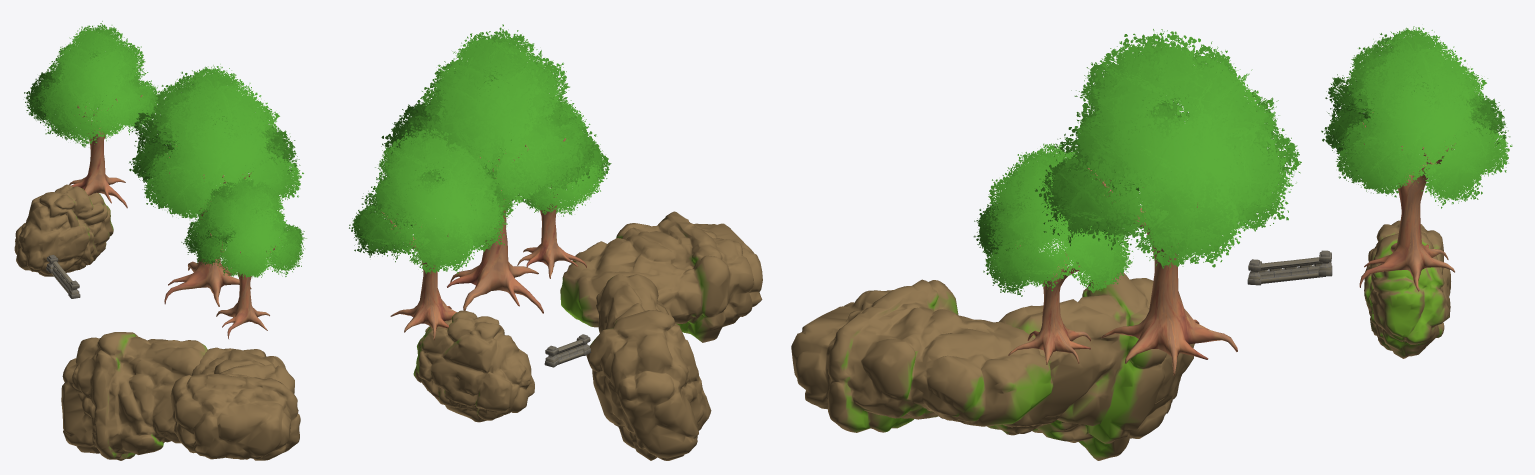
The model's file is cell_x2_z-3_render.gltf.
3 renders of one model, left to right at view 1: azimuth 30°, elevation 25°; view 2: azimuth 150°, elevation 25°; view 3: azimuth 270°, elevation 25°, orthographic. The views are drawn at different scales.
Visible parts, largest first — view 1: SM_ENV_tree_castle_01_LOD0.005, SM_ENV_cliff_castle_02_LOD0.044, SM_ENV_cliff_castle_02_LOD0.023, SM_ENV_tree_castle_01_LOD0.042, SM_ENV_tree_castle_01_LOD0.036, SM_ENV_cliff_castle_01_LOD0.016, SM_MOD_railing_02_straight_castle_LOD0.025; view 2: SM_ENV_tree_castle_01_LOD0.005, SM_ENV_tree_castle_01_LOD0.042, SM_ENV_cliff_castle_02_LOD0.044, SM_ENV_cliff_castle_02_LOD0.023, SM_ENV_cliff_castle_01_LOD0.016, SM_ENV_tree_castle_01_LOD0.036, SM_MOD_railing_02_straight_castle_LOD0.025; view 3: SM_ENV_tree_castle_01_LOD0.005, SM_ENV_cliff_castle_02_LOD0.023, SM_ENV_tree_castle_01_LOD0.042, SM_ENV_cliff_castle_02_LOD0.044, SM_ENV_tree_castle_01_LOD0.036, SM_ENV_cliff_castle_01_LOD0.016, SM_MOD_railing_02_straight_castle_LOD0.025.
Part boxes in pixels (bbox=[...]): SM_ENV_tree_castle_01_LOD0.005: bbox=[129, 64, 303, 306]; SM_ENV_cliff_castle_02_LOD0.044: bbox=[61, 332, 207, 460]; SM_ENV_cliff_castle_02_LOD0.023: bbox=[170, 347, 300, 460]; SM_ENV_tree_castle_01_LOD0.042: bbox=[24, 21, 159, 208]; SM_ENV_tree_castle_01_LOD0.036: bbox=[181, 177, 306, 338]; SM_ENV_cliff_castle_01_LOD0.016: bbox=[14, 184, 113, 276]; SM_MOD_railing_02_straight_castle_LOD0.025: bbox=[51, 261, 72, 293]; SM_ENV_tree_castle_01_LOD0.005: bbox=[381, 24, 602, 313]; SM_ENV_tree_castle_01_LOD0.042: bbox=[349, 127, 513, 340]; SM_ENV_cliff_castle_02_LOD0.044: bbox=[586, 274, 711, 460]; SM_ENV_cliff_castle_02_LOD0.023: bbox=[560, 211, 762, 342]; SM_ENV_cliff_castle_01_LOD0.016: bbox=[413, 310, 534, 422]; SM_ENV_tree_castle_01_LOD0.036: bbox=[486, 95, 611, 278]; SM_MOD_railing_02_straight_castle_LOD0.025: bbox=[555, 340, 583, 364]; SM_ENV_tree_castle_01_LOD0.005: bbox=[1035, 29, 1301, 375]; SM_ENV_cliff_castle_02_LOD0.023: bbox=[791, 279, 1053, 432]; SM_ENV_tree_castle_01_LOD0.042: bbox=[1321, 26, 1512, 291]; SM_ENV_cliff_castle_02_LOD0.044: bbox=[987, 272, 1194, 460]; SM_ENV_tree_castle_01_LOD0.036: bbox=[973, 143, 1133, 364]; SM_ENV_cliff_castle_01_LOD0.016: bbox=[1364, 220, 1450, 358]; SM_MOD_railing_02_straight_castle_LOD0.025: bbox=[1258, 257, 1325, 283].
Size of the model in its own units: 24.82 by 33.12 by 42.7.
Materials: 4 (3 with a texture image).
